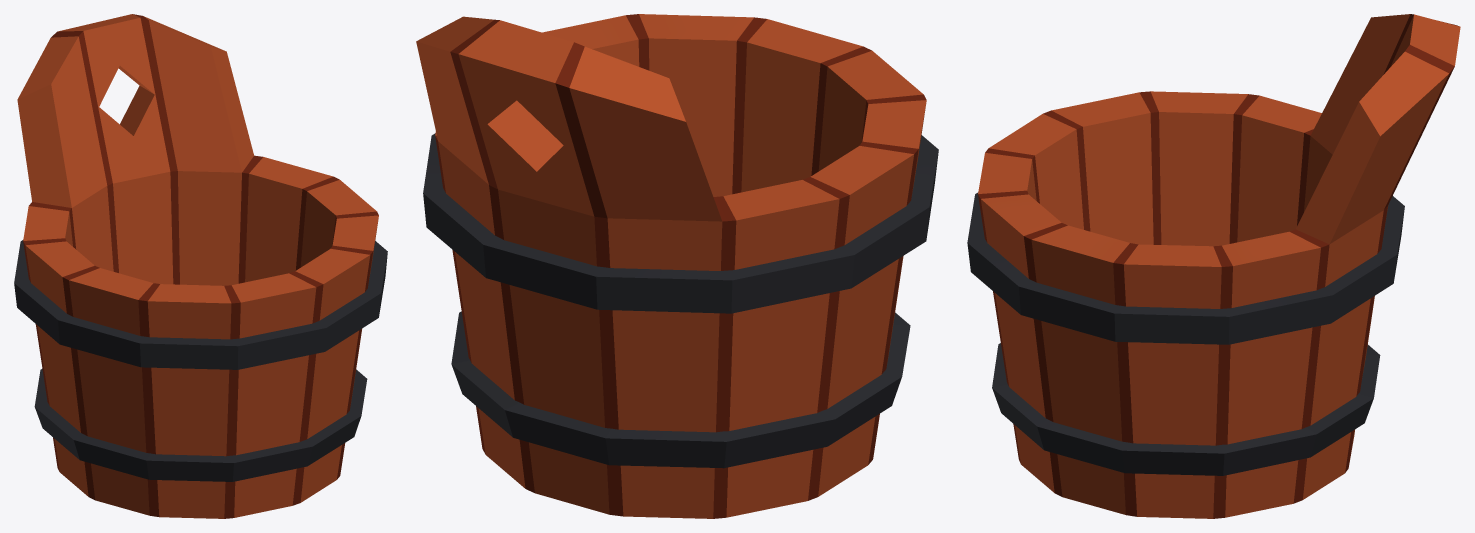
Rendered from Bucket_2.fbx.
The picture shows the model from 3 angles, left to right: view 1: azimuth 30°, elevation 25°; view 2: azimuth 150°, elevation 25°; view 3: azimuth 270°, elevation 25°; orthographic projection. The views are drawn at different scales.
Visible parts, largest first — view 1: Bucket_2; view 2: Bucket_2; view 3: Bucket_2.
Part boxes in pixels (<box>): Bucket_2: <box>14,14,387,518</box>; Bucket_2: <box>416,14,938,518</box>; Bucket_2: <box>967,14,1460,518</box>.
Size of the model in its own units: 18.78 by 20.08 by 21.21.
